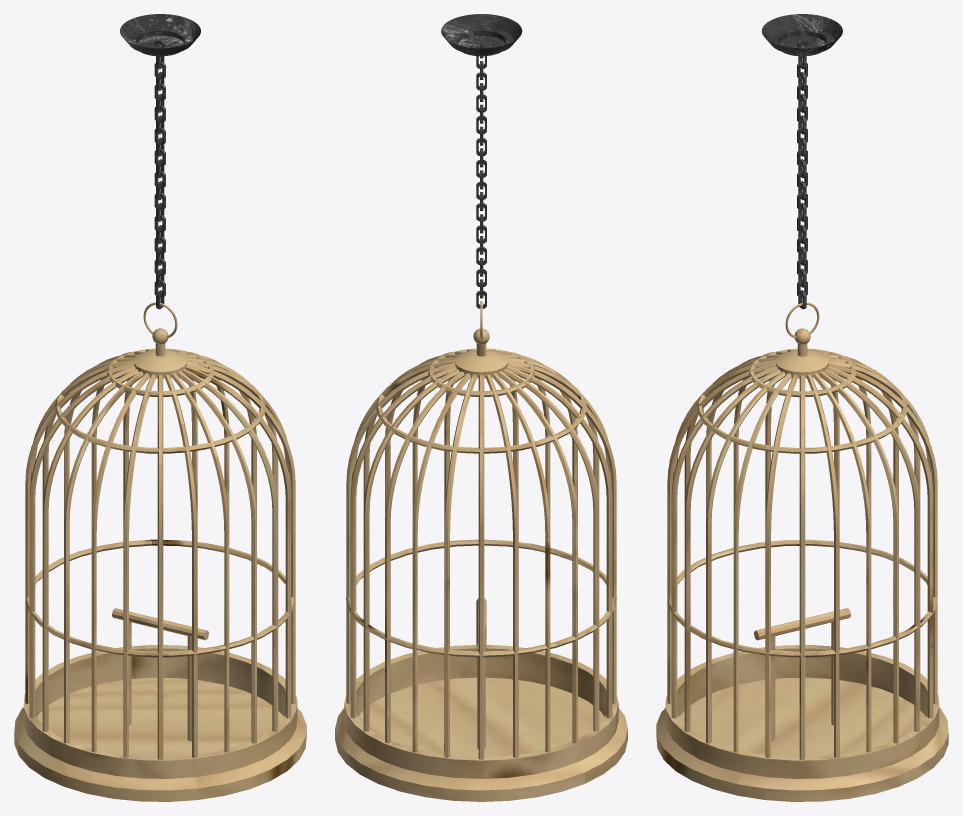
The model's file is bird-cage.glb.
3 views of the same model, side by side, from view 1: azimuth 30°, elevation 25°; view 2: azimuth 150°, elevation 25°; view 3: azimuth 270°, elevation 25° (orthographic).
Parts seen in each view (by area): view 1: bird-cage; view 2: bird-cage; view 3: bird-cage.
Part boxes in pixels (left/top/right/bottom): bird-cage: left=14, top=14, right=306, bottom=801; bird-cage: left=335, top=14, right=627, bottom=801; bird-cage: left=656, top=14, right=948, bottom=801.
Size of the model in its own units: 0.4693 by 1.26 by 0.4693.
2 materials, 2 textured.
